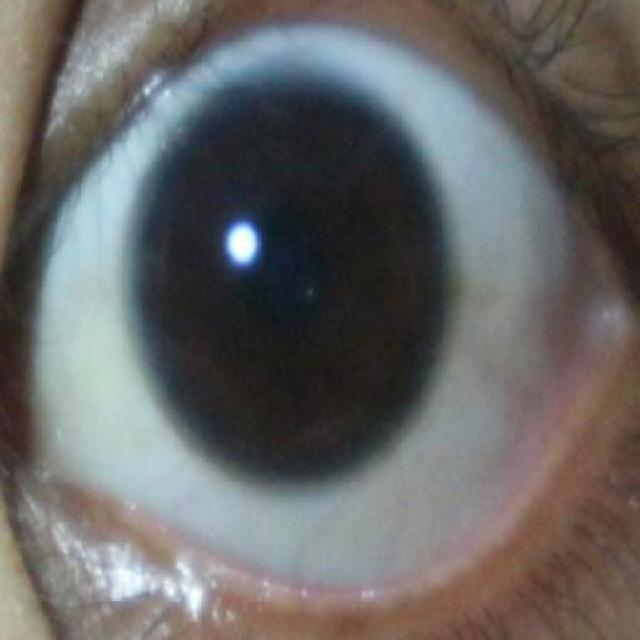Normal: (123, 66, 451, 485)
